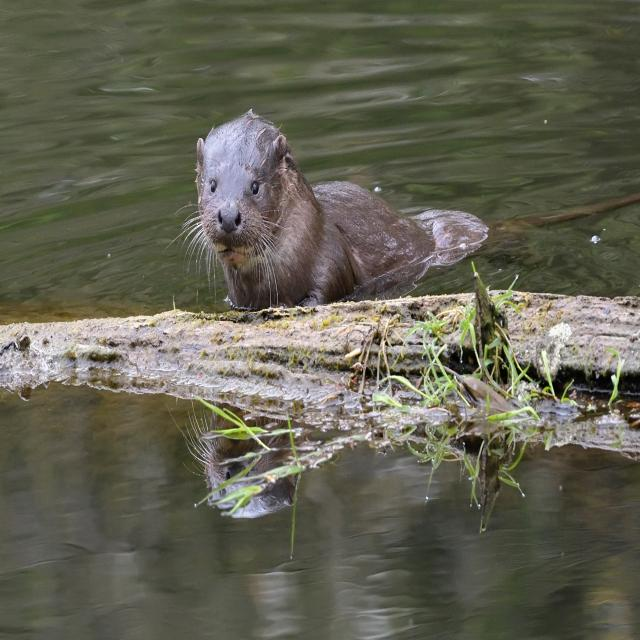otter: (199, 117, 489, 299)
